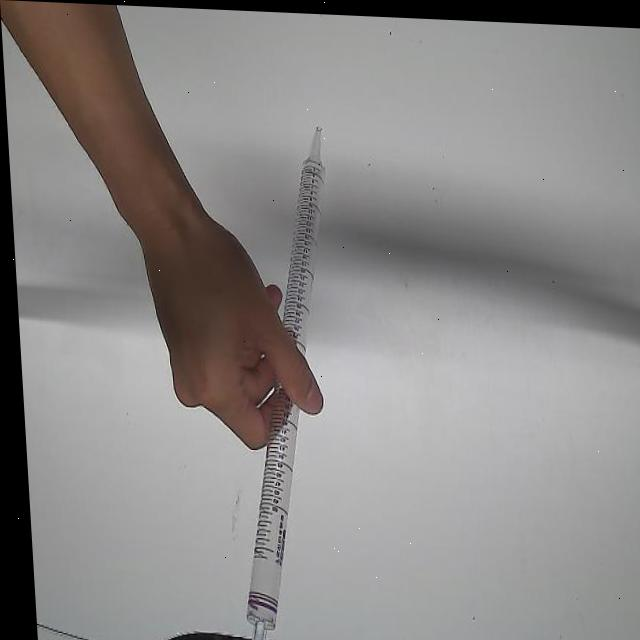Serelogical Pipet 50 mL: (210, 112, 354, 640)
